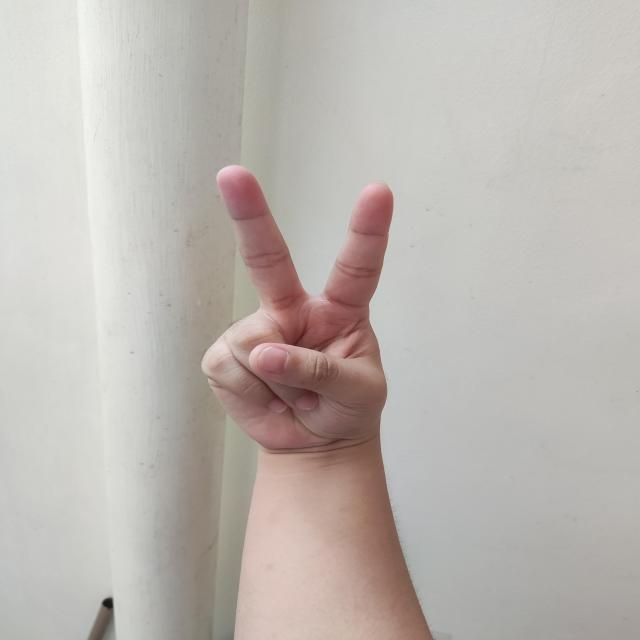V: (201, 165, 394, 450)
